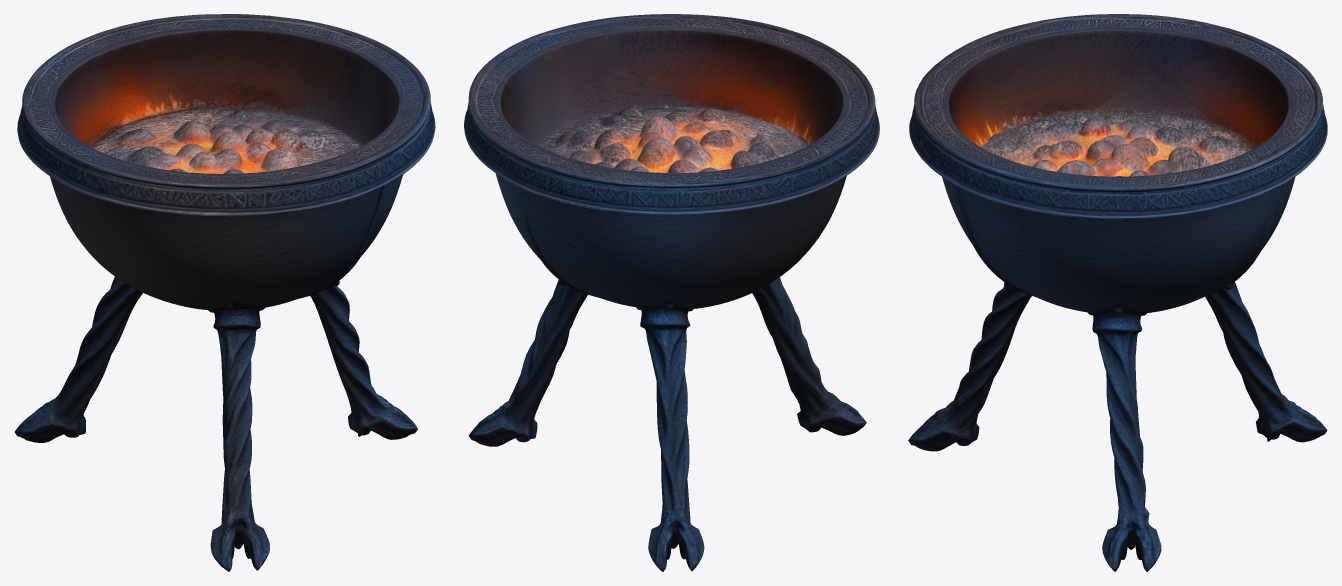
The model's file is brazier_1024.glb.
The picture shows the model from 3 angles, left to right: view 1: azimuth 30°, elevation 25°; view 2: azimuth 150°, elevation 25°; view 3: azimuth 270°, elevation 25°; orthographic projection.
Parts seen in each view (by area): view 1: node_0; view 2: node_0; view 3: node_0.
Part boxes in pixels (<box>): node_0: <box>14,14,435,571</box>; node_0: <box>464,14,879,571</box>; node_0: <box>908,14,1327,571</box>.
Size of the model in its own units: 0.8161 by 0.7967 by 0.7967.
Materials: 1 (1 with a texture image).
